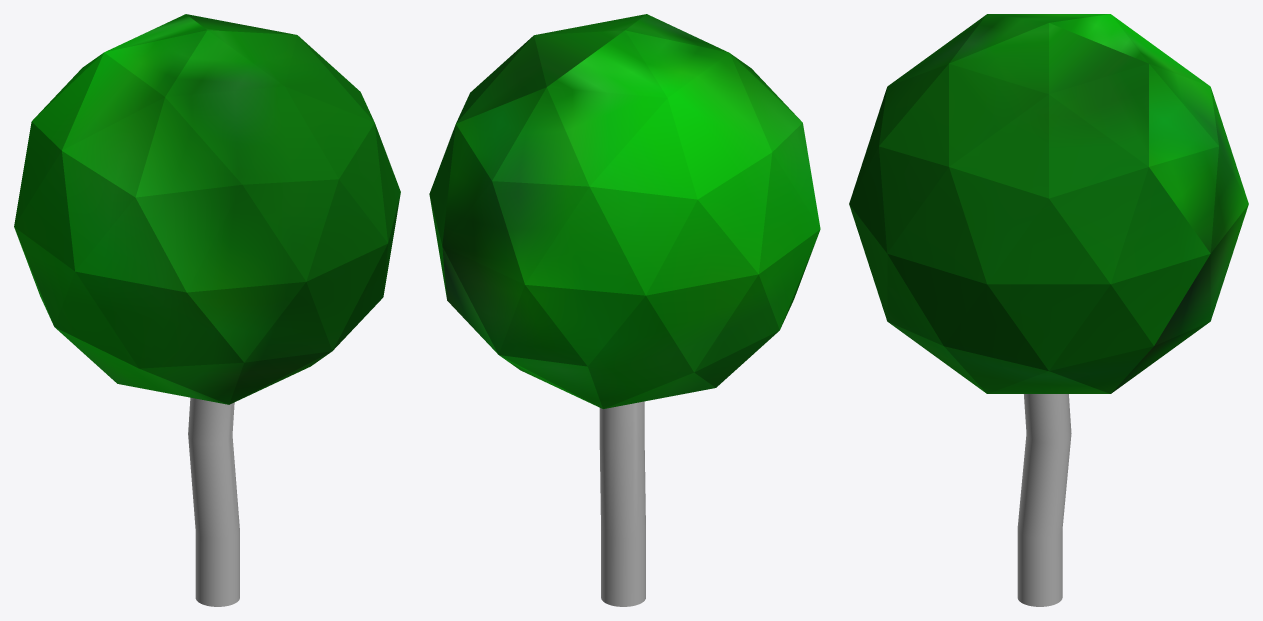
The model's file is TreeTwoParted.fbx.
3 renders of one model, left to right at view 1: azimuth 30°, elevation 25°; view 2: azimuth 150°, elevation 25°; view 3: azimuth 270°, elevation 25°, orthographic.
Visible parts, largest first — view 1: TOP, Bottom; view 2: TOP, Bottom; view 3: TOP, Bottom.
Part boxes in pixels (x1,y1,x2,y2): TOP: [14, 14, 400, 539]; Bottom: [195, 531, 239, 606]; TOP: [429, 14, 820, 538]; Bottom: [601, 530, 645, 606]; TOP: [849, 14, 1248, 538]; Bottom: [1017, 529, 1062, 606].
Size of the model in its own units: 238 by 395 by 250.
